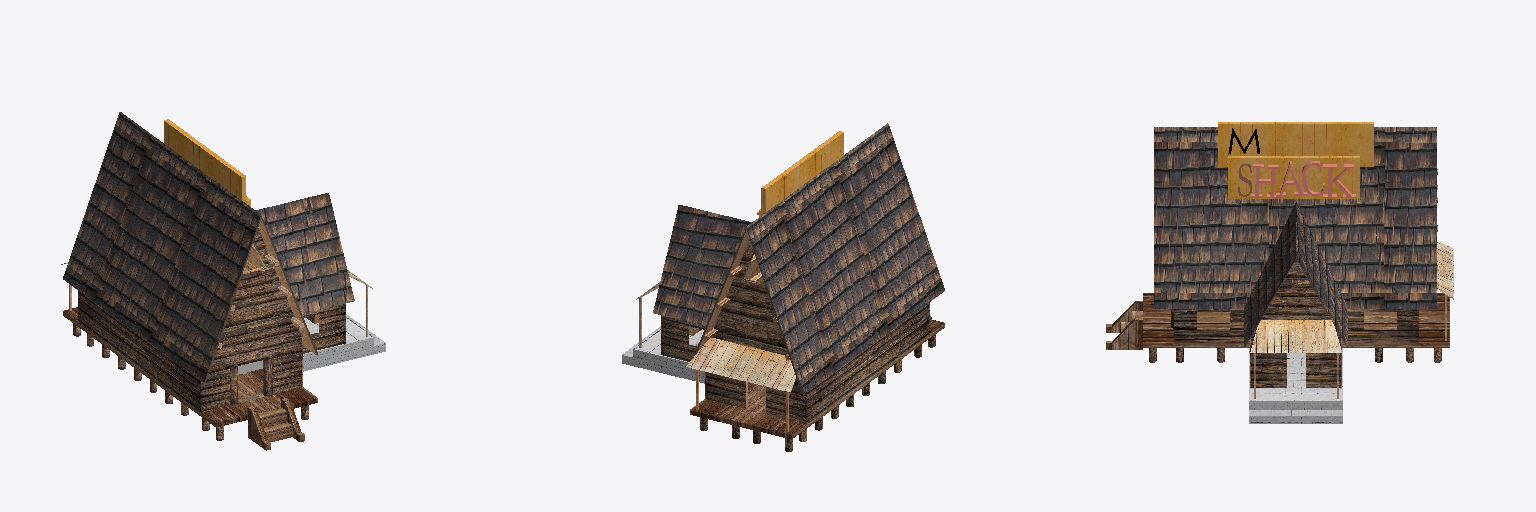
The picture shows the model from 3 angles: view 1: azimuth 30°, elevation 25°; view 2: azimuth 150°, elevation 25°; view 3: azimuth 270°, elevation 25°; orthographic projection.
Visible parts, largest first — view 1: polySurface91; view 2: polySurface91; view 3: polySurface91.
Boxes of the visible parts, x1=… form: polySurface91: x1=61, y1=112, x2=385, y2=450; polySurface91: x1=622, y1=123, x2=944, y2=451; polySurface91: x1=1106, y1=122, x2=1453, y2=423.
Size of the model in its own units: 2.81 by 2.63 by 3.69.
55 materials, 14 textured.